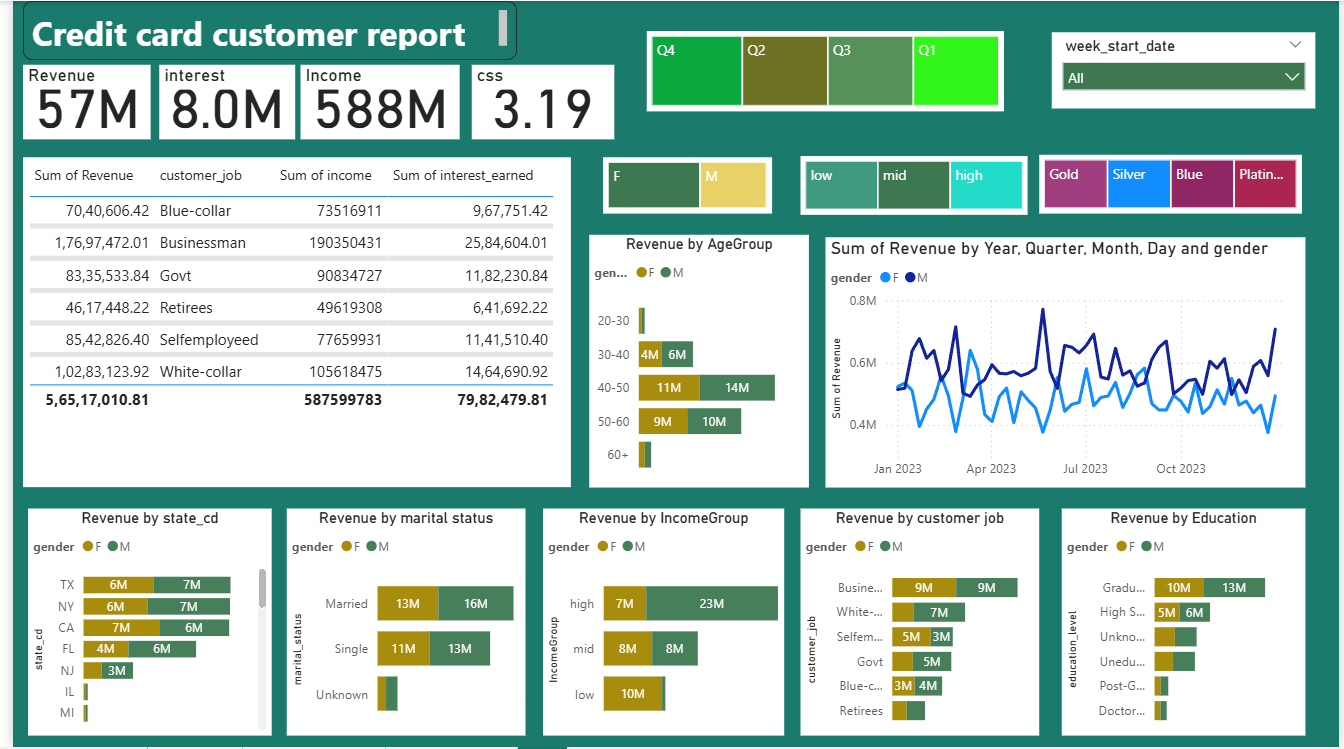

The dashboard page shown, as its layout file describes it:
{"tool":"powerbi","page":{"name":"cc customer","canvas":[1280,720],"ordinal":2},"visuals":[{"type":"textbox","box":[9.7,0,476.5,56.7],"z":0},{"type":"barChart","title":"Revenue by IncomeGroup","fields":{"Y":["Sum(public cc_detail.Revenue)"],"Category":["public cust_detail.IncomeGroup"],"Series":["public cust_detail.gender"]},"box":[511.5,489.8,232.8,219.6],"z":1000},{"type":"tableEx","fields":{"Values":["Sum(public cc_detail.Revenue)","public cust_detail.customer_job","Sum(public cust_detail.income)","Sum(public cc_detail.interest_earned)"]},"box":[9.7,150.8,528.4,318.5],"z":2000},{"type":"card","title":"Revenue","fields":{"Values":["Sum(public cc_detail.Revenue)"]},"box":[9.7,61.5,123.1,72.4],"z":3000},{"type":"card","title":"Income","fields":{"Values":["Sum(public cust_detail.income)"]},"box":[277.5,61.5,153.2,72.4],"z":4000},{"type":"card","title":"css","fields":{"Values":["Avg(public cust_detail.cust_satisfaction_score)"]},"box":[442.8,61.5,137.5,72.4],"z":5000},{"type":"card","title":"interest","fields":{"Values":["Sum(public cc_detail.interest_earned)"]},"box":[141.2,61.5,131.5,72.4],"z":6000},{"type":"slicer","fields":{"Values":["public cc_detail.week_start_date"]},"box":[1002.6,30.2,254.6,73.6],"z":7000},{"type":"treemap","fields":{"Group":["public cc_detail.qtr"],"Values":["CountNonNull(public cc_detail.client_num)"]},"box":[611.7,29,345,77.2],"z":8000},{"type":"treemap","fields":{"Group":["public cust_detail.gender"],"Values":["CountNonNull(public cc_detail.client_num)"]},"box":[569.4,150.8,162.9,54.3],"z":9000},{"type":"treemap","fields":{"Values":["Avg(public cc_detail.client_num)"],"Group":["public cc_detail.card_category"]},"box":[990.5,148.4,253.4,56.7],"z":10000},{"type":"treemap","fields":{"Values":["Avg(public cc_detail.client_num)"],"Group":["public cust_detail.IncomeGroup"]},"box":[760.1,149.6,219.6,56.7],"z":11000},{"type":"lineChart","fields":{"Y":["Sum(public cc_detail.Revenue)"],"Series":["public cust_detail.gender"],"Category":["public cc_detail.week_start_date.Variation.Date Hierarchy.Year","public cc_detail.week_start_date.Variation.Date Hierarchy.Quarter","public cc_detail.week_start_date.Variation.Date Hierarchy.Month","public cc_detail.week_start_date.Variation.Date Hierarchy.Day"]},"box":[784.2,228,463.3,241.3],"z":12000},{"type":"barChart","title":"Revenue by AgeGroup","fields":{"Y":["Sum(public cc_detail.Revenue)"],"Category":["public cust_detail.AgeGroup"],"Series":["public cust_detail.gender"]},"box":[556.2,225.6,212.3,243.7],"z":13000},{"type":"barChart","title":"Revenue by customer job","fields":{"Y":["Sum(public cc_detail.Revenue)"],"Category":["public cust_detail.customer_job"],"Series":["public cust_detail.gender"]},"box":[760.1,489.8,230.4,219.6],"z":14000},{"type":"barChart","title":"Revenue by Education","fields":{"Y":["Sum(public cc_detail.Revenue)"],"Category":["public cust_detail.education_level"],"Series":["public cust_detail.gender"]},"box":[1012.2,489.8,235.3,219.6],"z":15000},{"type":"barChart","title":"Revenue by state_cd","fields":{"Y":["Sum(public cc_detail.Revenue)"],"Category":["public cust_detail.state_cd"],"Series":["public cust_detail.gender"]},"box":[14.5,489.8,235.3,219.6],"z":16000},{"type":"barChart","title":"Revenue by marital status","fields":{"Y":["Sum(public cc_detail.Revenue)"],"Category":["public cust_detail.marital_status"],"Series":["public cust_detail.gender"]},"box":[264.2,489.8,230.4,219.6],"z":17000}]}

Visuals, with their boxes in screenshot pixels (x1, y1, x2, y2), scaled from the page's 1280x720 canvas onto the 1344x749 screenshot:
textbox: Rect(10, 0, 511, 59)
"Revenue by IncomeGroup" barChart: Rect(537, 510, 782, 738)
tableEx - Sum(public cc_detail.Revenue) x public cust_detail.customer_job: Rect(10, 157, 565, 488)
"Revenue" card: Rect(10, 64, 139, 139)
"Income" card: Rect(291, 64, 452, 139)
"css" card: Rect(465, 64, 609, 139)
"interest" card: Rect(148, 64, 286, 139)
slicer - public cc_detail.week_start_date: Rect(1053, 31, 1320, 108)
treemap - public cc_detail.qtr x CountNonNull(public cc_detail.client_num): Rect(642, 30, 1005, 110)
treemap - public cust_detail.gender x CountNonNull(public cc_detail.client_num): Rect(598, 157, 769, 213)
treemap - Avg(public cc_detail.client_num) x public cc_detail.card_category: Rect(1040, 154, 1306, 213)
treemap - Avg(public cc_detail.client_num) x public cust_detail.IncomeGroup: Rect(798, 156, 1029, 215)
lineChart - Sum(public cc_detail.Revenue) x public cust_detail.gender: Rect(823, 237, 1310, 488)
"Revenue by AgeGroup" barChart: Rect(584, 235, 807, 488)
"Revenue by customer job" barChart: Rect(798, 510, 1040, 738)
"Revenue by Education" barChart: Rect(1063, 510, 1310, 738)
"Revenue by state_cd" barChart: Rect(15, 510, 262, 738)
"Revenue by marital status" barChart: Rect(277, 510, 519, 738)
